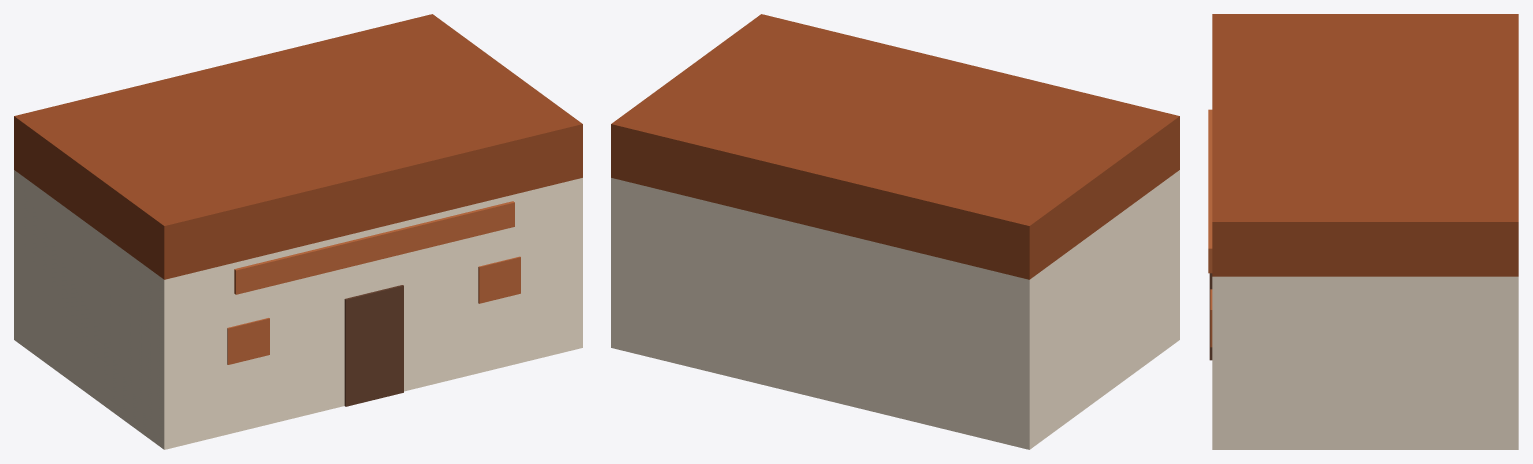
File: gedung_pasar.fbx
3 views of the same model, side by side, from view 1: azimuth 30°, elevation 25°; view 2: azimuth 150°, elevation 25°; view 3: azimuth 270°, elevation 25° (orthographic).
Visible parts, largest first — view 1: gedung_pasar; view 2: gedung_pasar; view 3: gedung_pasar.
Boxes of the visible parts, box(x1,y1,x2,y2) form: gedung_pasar: box(14, 14, 582, 449); gedung_pasar: box(611, 14, 1179, 449); gedung_pasar: box(1208, 14, 1518, 449).
Size of the model in its own units: 900 by 460 by 567.
Materials: 1 (1 with a texture image).
